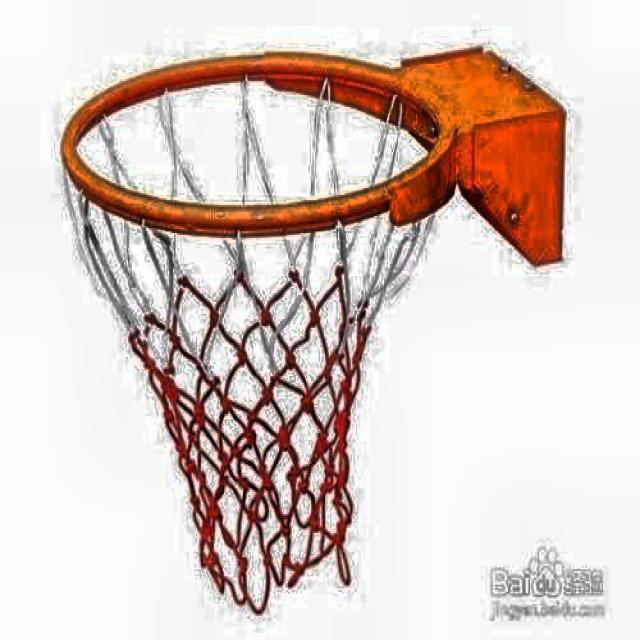rim: (63, 50, 446, 621)
